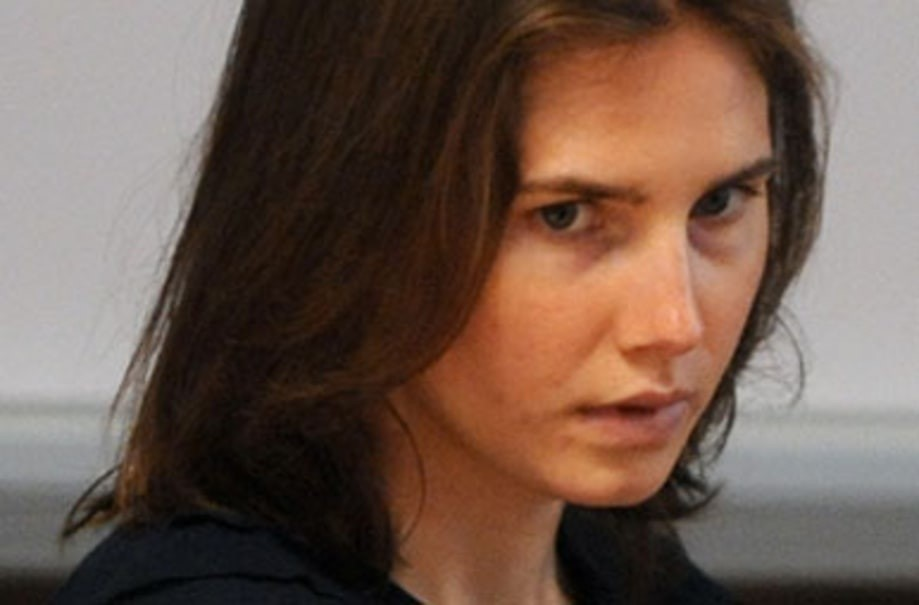face_no_mask: (241, 1, 774, 506)
